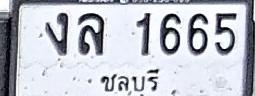1: (136, 12, 151, 55)
5: (214, 12, 236, 55)
6: (187, 12, 208, 55), (160, 12, 180, 54)
A07: (45, 12, 68, 55)
A36: (78, 12, 104, 55)
CBI: (95, 65, 162, 96)
